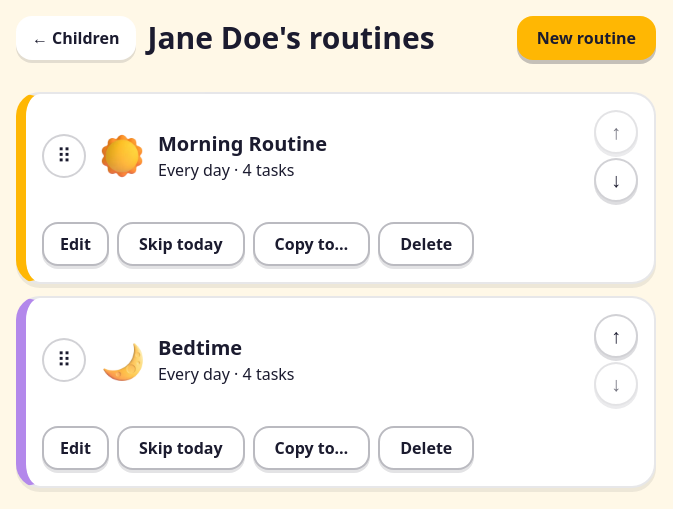
it: RoutineListScreen › lists routines in order and reorders with Move down
Expected: the headings read "Morning Routine", "Bedtime", in this order, [158,130,327,157]; [158,334,242,361]
Expected: the heading "Morning Routine" is shown, [158,130,327,157]
Click the button named "Move Morning Routine down" at (616, 180), box [594,158,638,202]
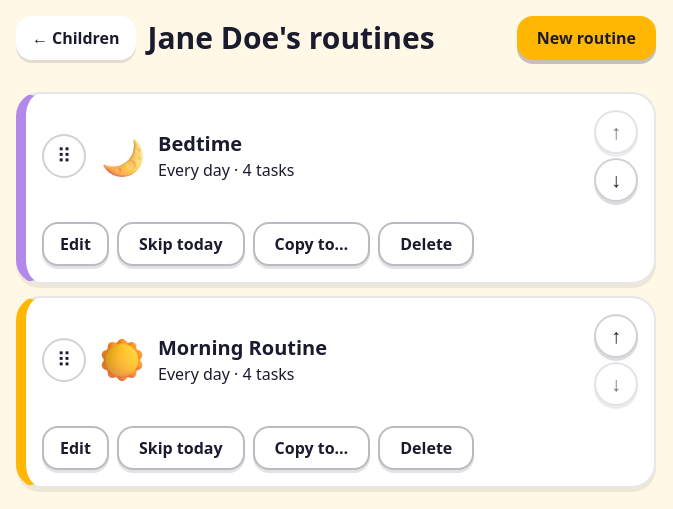
Expected: the headings read "Bedtime", "Morning Routine", in this order, [158,130,242,157]; [158,334,327,361]
